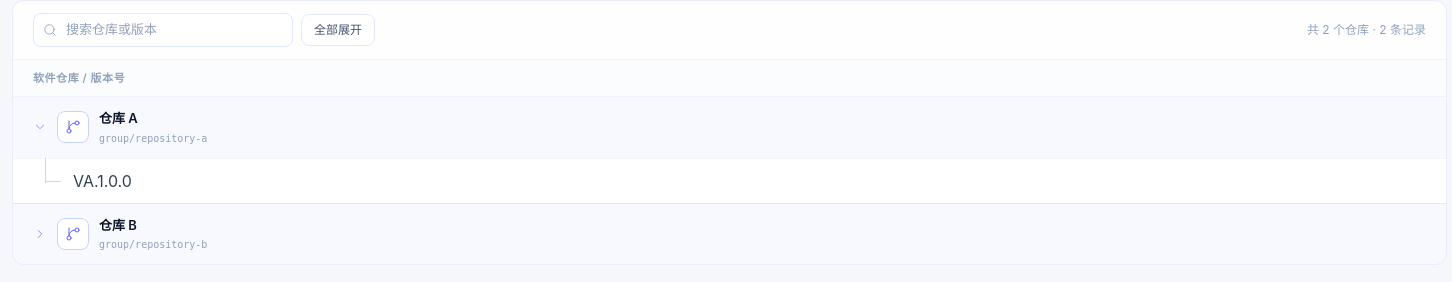
it: RepositoryTreeTable › 默认展开首个仓库，并支持搜索后自动展示命中版本
The width and height of the screenshot is (1452, 282).
Expected: the text "VA.1.0.0" is shown, [73,170,132,190]
Type "VB.2.0.0" into the search field with placeholder "搜索仓库或版本" at point(163, 30), box [33,13,293,46]
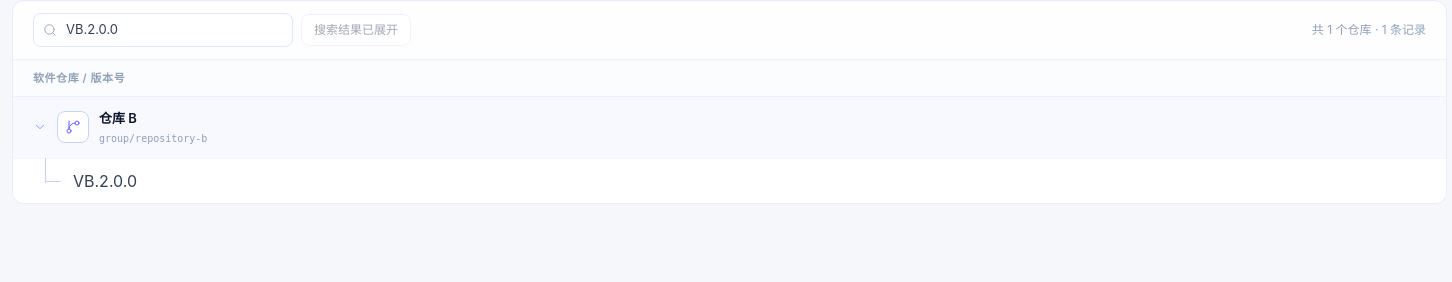
Result: the text "VB.2.0.0" is shown at [73,170,137,190]
Result: no buttons "VA.1.0.0" are shown
